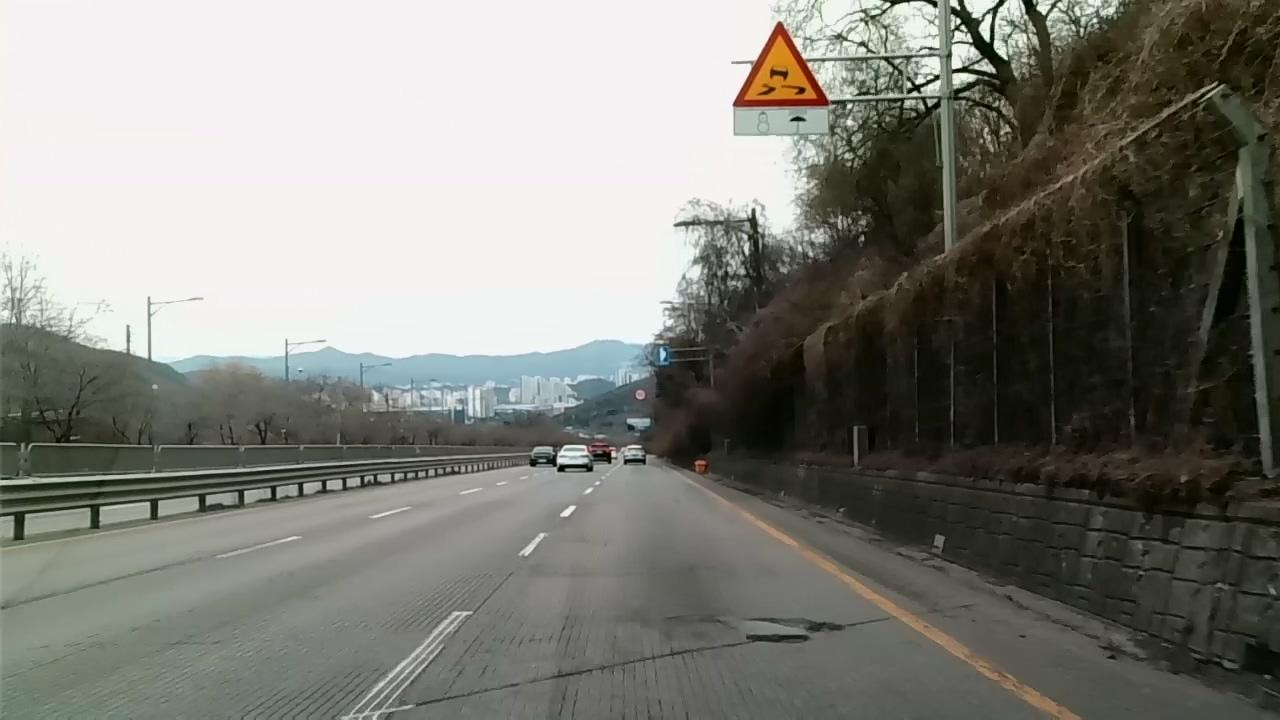hcrack: (405, 638, 748, 700)
pothole: (742, 612, 847, 633), (741, 629, 813, 657)
